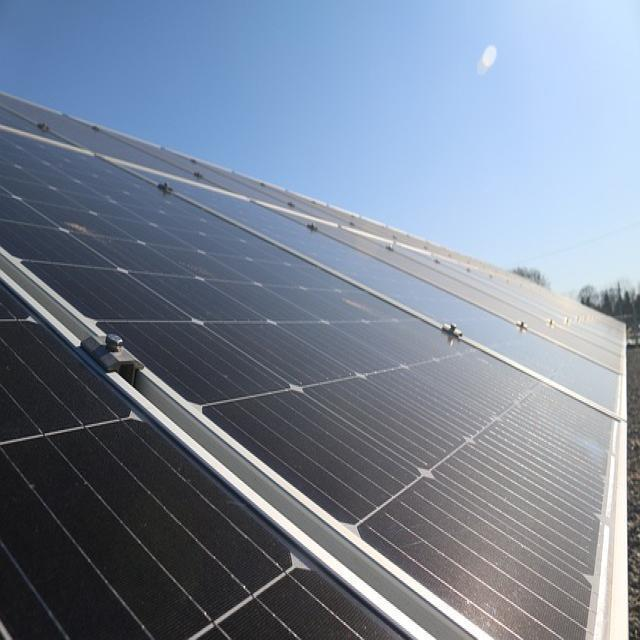Photovoltaic-Panel: (1, 94, 628, 639)
